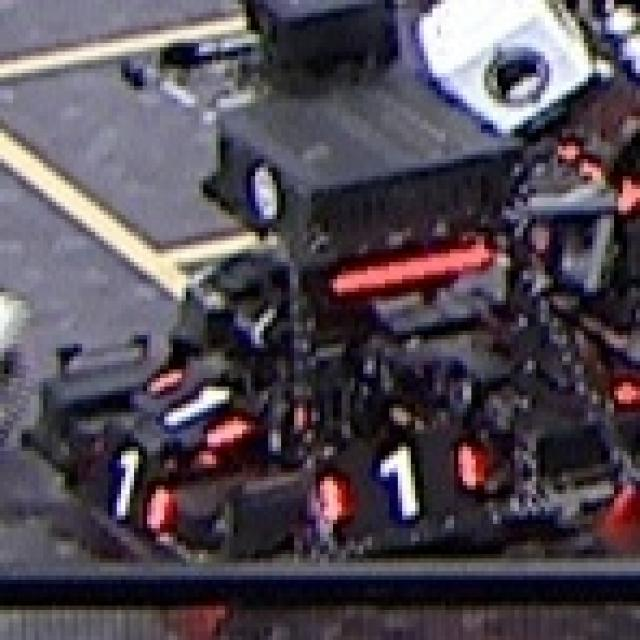R1: (311, 438, 489, 533), (138, 365, 251, 455), (95, 447, 169, 532)
